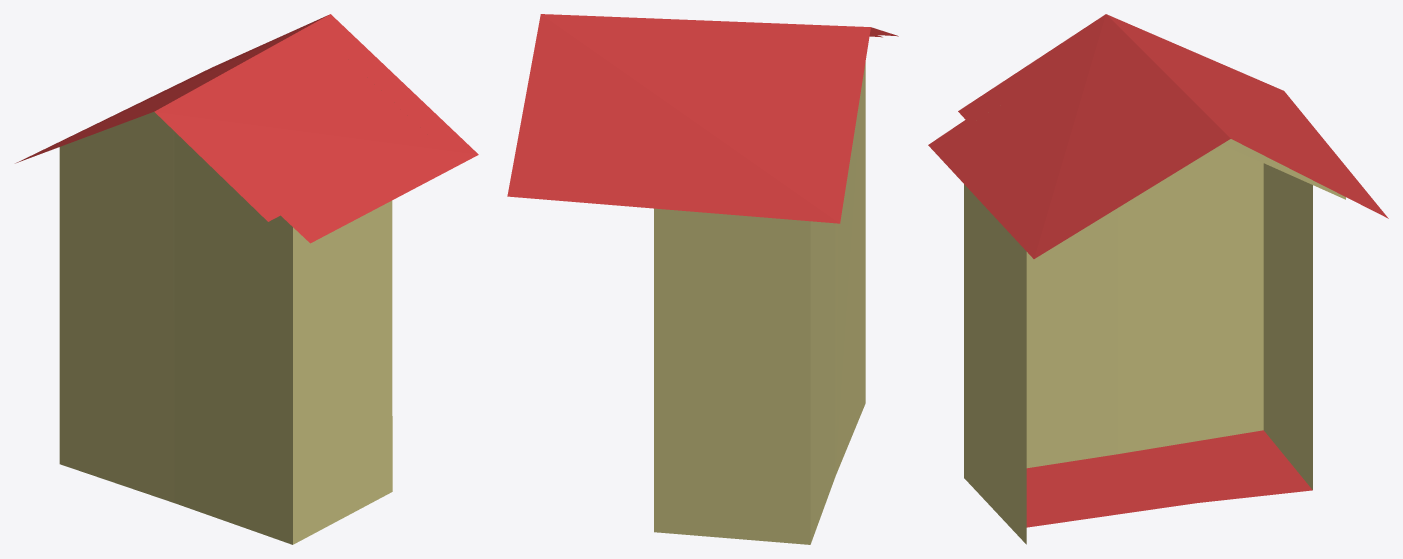
3 renders of one model, left to right at view 1: azimuth 30°, elevation 25°; view 2: azimuth 150°, elevation 25°; view 3: azimuth 270°, elevation 25°, orthographic. The views are drawn at different scales.
Size of the model in its own units: 9.45 by 10.23 by 10.45.
